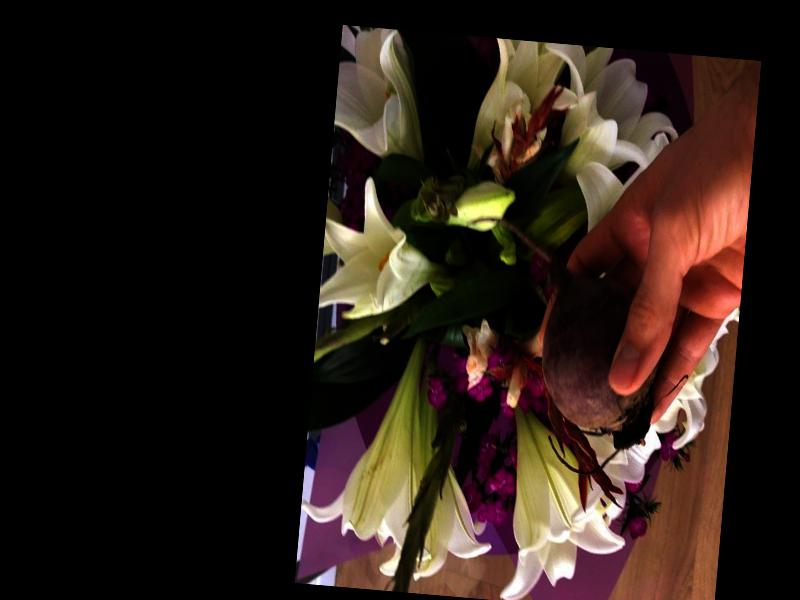Beet: (449, 214, 669, 480)
